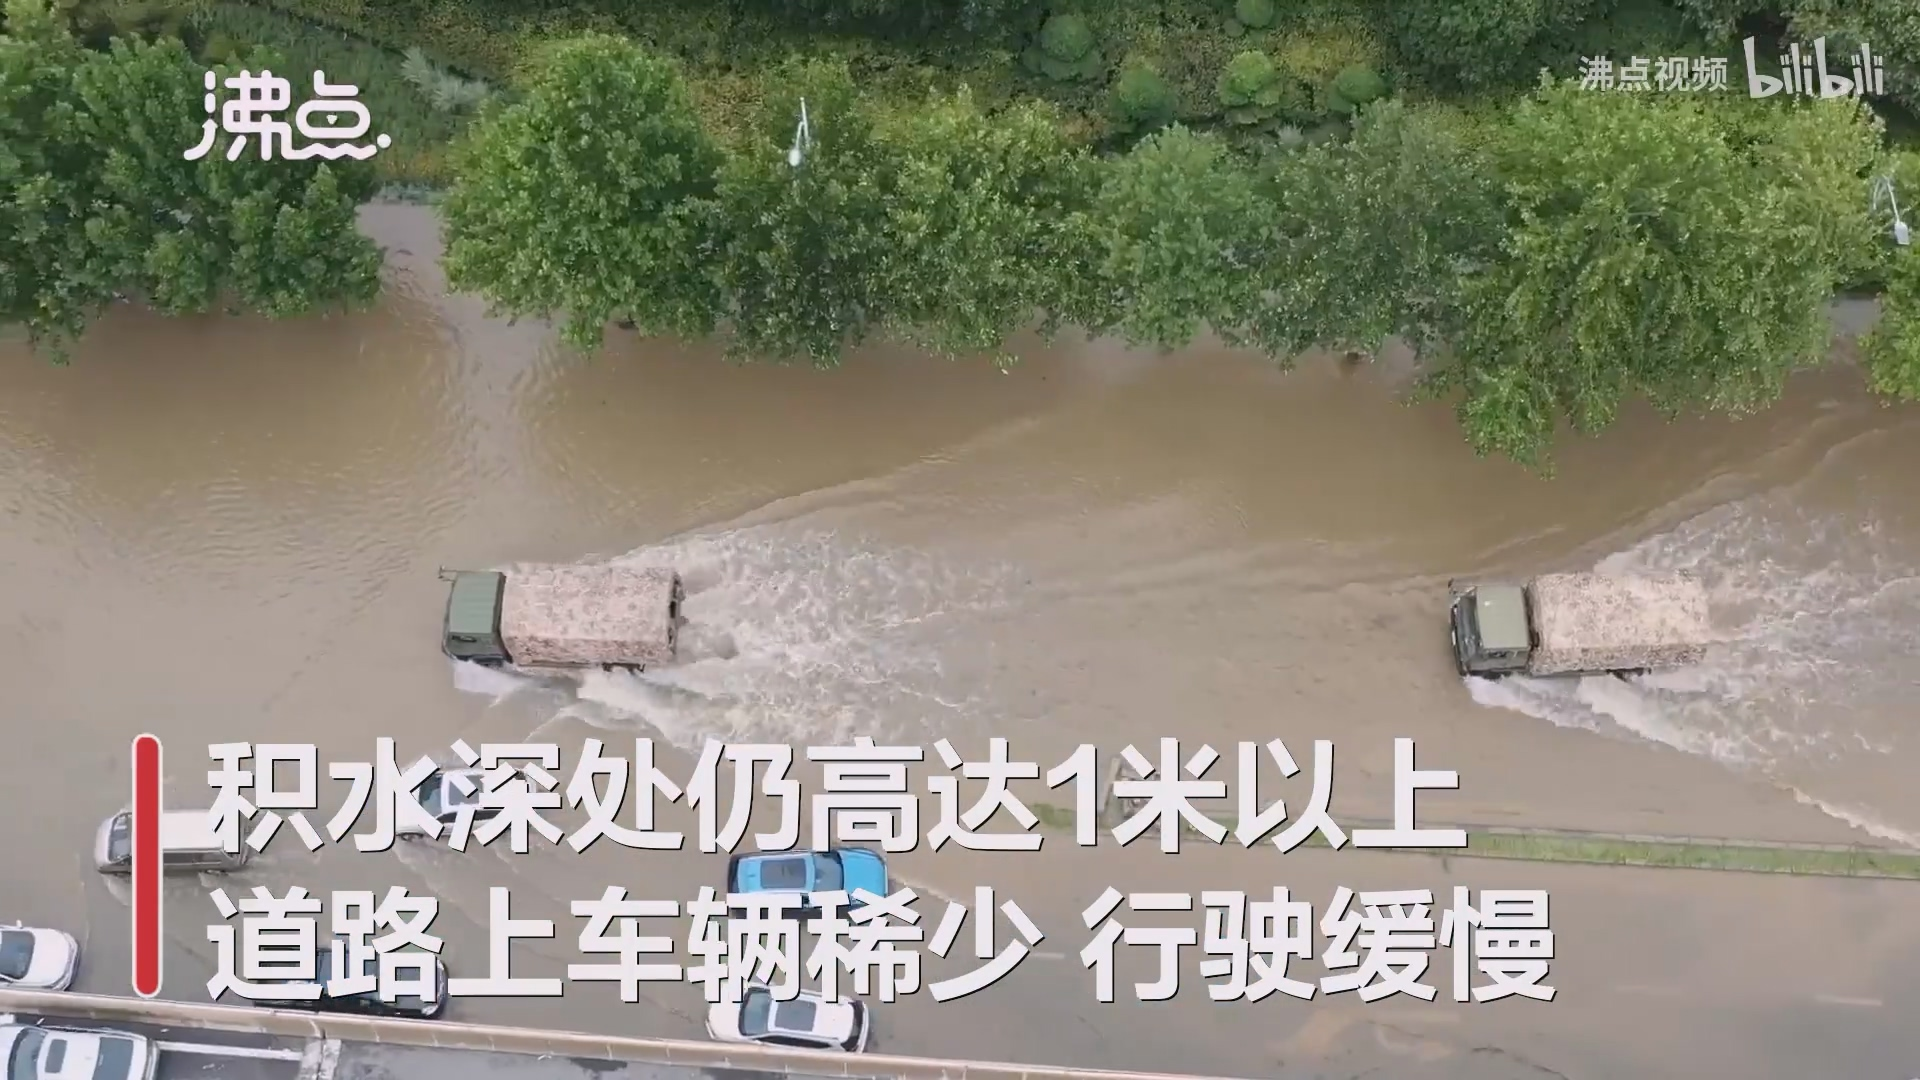puddle: (7, 278, 1903, 744)
